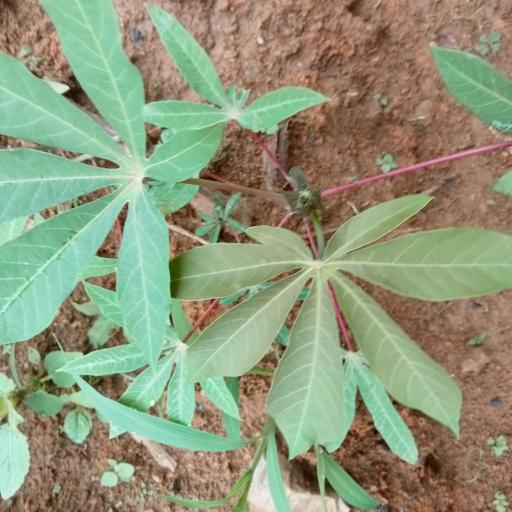Cassava_Healthy: (2, 0, 232, 379), (175, 210, 511, 458)
